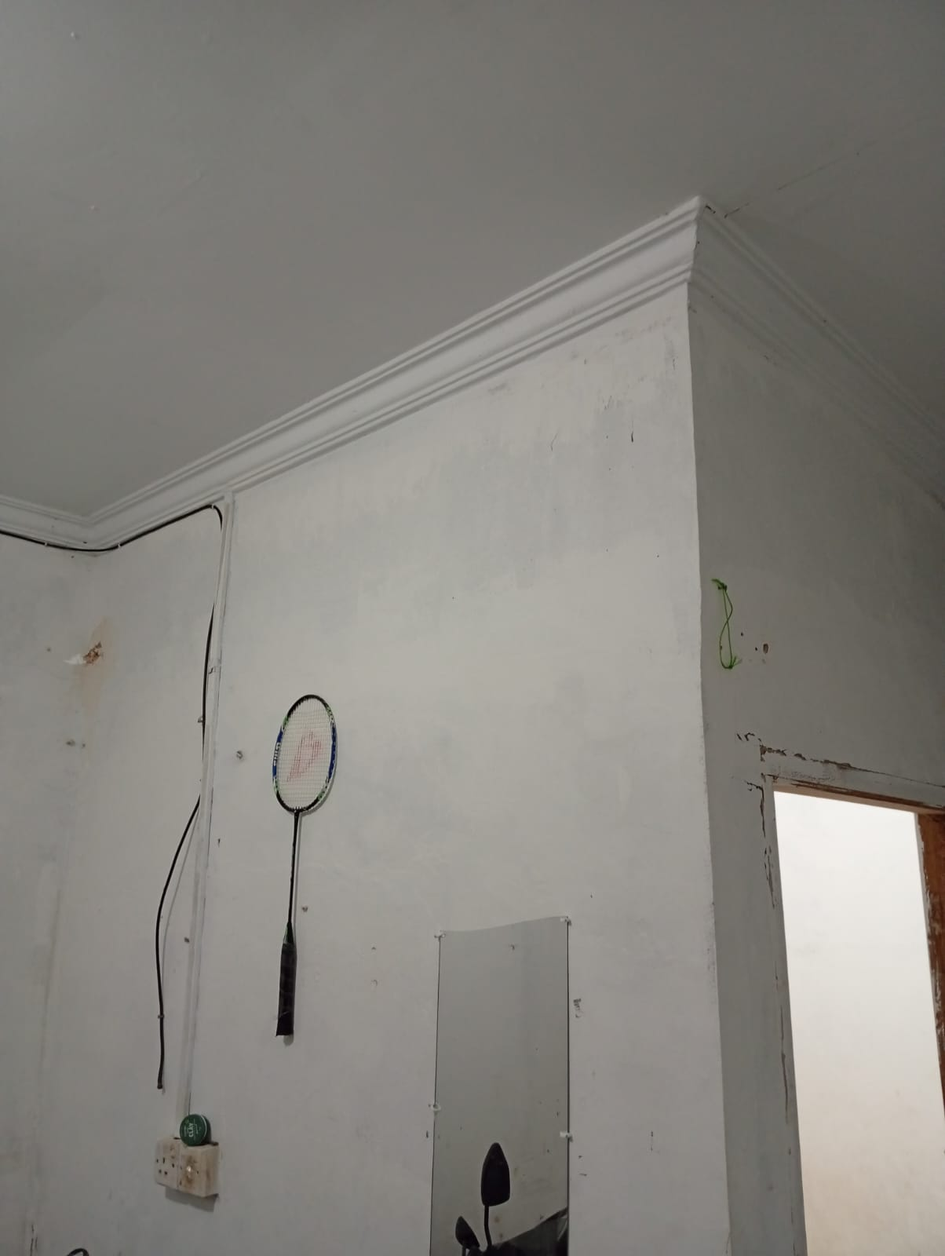Minyak_Rambut: (171, 1110, 216, 1150)
